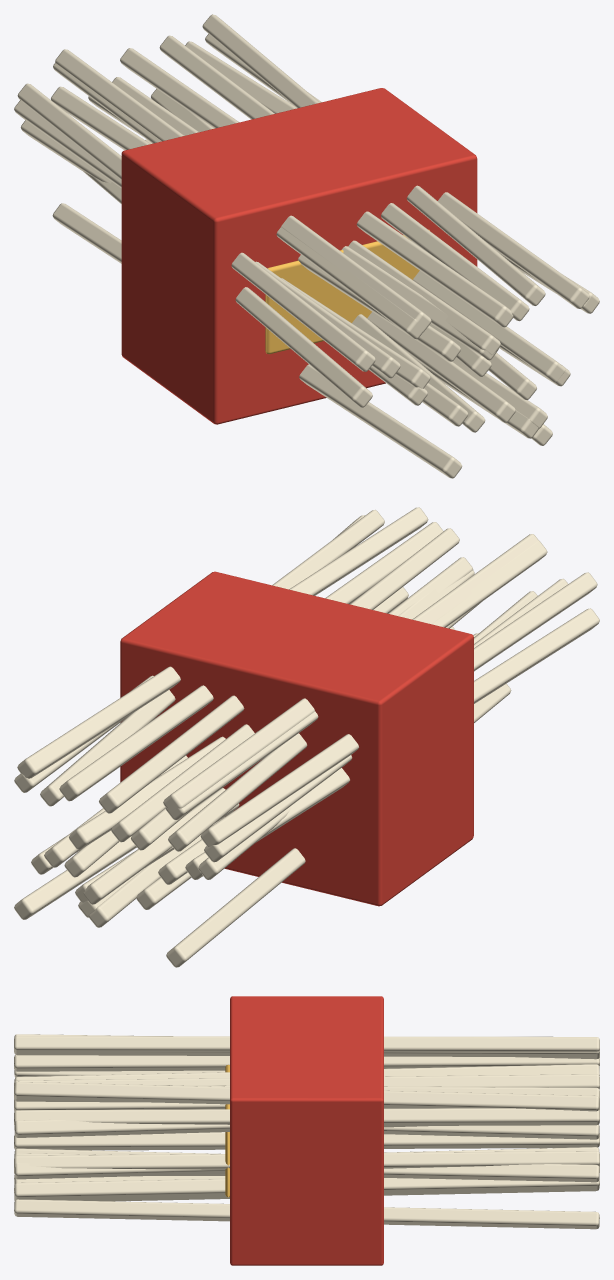
File: Noodles.glb
3 views of the same model, one above another, from view 1: azimuth 30°, elevation 25°; view 2: azimuth 150°, elevation 25°; view 3: azimuth 270°, elevation 25° (orthographic). The views are drawn at different scales.
Parts seen in each view (by area): view 1: Noodles; view 2: Noodles; view 3: Noodles.
Boxes of the visible parts, bbox=[...] form: Noodles: bbox=[14, 14, 599, 478]; Noodles: bbox=[14, 507, 599, 967]; Noodles: bbox=[14, 996, 599, 1265].
Size of the model in its own units: 0.08 by 0.06 by 0.19.
